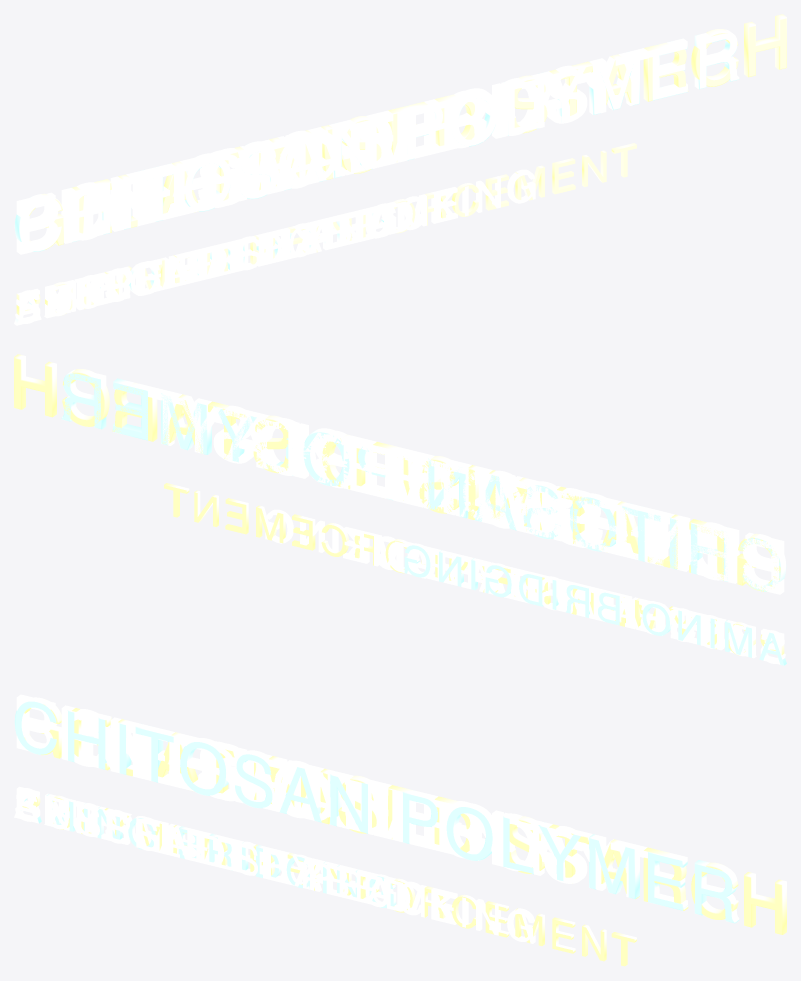
File: labels.glb
3 renders of one model, top to bottom at view 1: azimuth 30°, elevation 25°; view 2: azimuth 150°, elevation 25°; view 3: azimuth 330°, elevation 25°, orthographic.
Visible parts, largest first — view 1: Label_Chitosan, Label_Starch, Label_PoreWater, Label_Deposit, Label_Sediment, Label_Bentonite; view 2: Label_Chitosan, Label_Starch, Label_Bentonite, Label_Deposit, Label_Sediment, Label_PoreWater; view 3: Label_Chitosan, Label_Starch, Label_PoreWater, Label_Deposit, Label_Sediment, Label_Bentonite.
Part boxes in pixels (x1,y1,x2,y2): Label_Chitosan: (14,29,739,325); Label_Starch: (16,14,786,315); Label_PoreWater: (17,96,535,324); Label_Deposit: (17,48,652,325); Label_Sediment: (15,71,560,323); Label_Bentonite: (16,56,622,318); Label_Chitosan: (61,369,786,665); Label_Starch: (14,354,784,655); Label_Bentonite: (178,396,784,664); Label_Deposit: (147,388,783,656); Label_Sediment: (241,411,785,663); Label_PoreWater: (265,436,783,661); Label_Chitosan: (14,697,739,923); Label_Starch: (22,699,786,966); Label_PoreWater: (16,699,535,943); Label_Deposit: (14,694,647,911); Label_Sediment: (15,698,555,924); Label_Bentonite: (16,697,617,891).
Bounding box in the file's own units: 0.4032 × 0.0619 × 0.00441.
